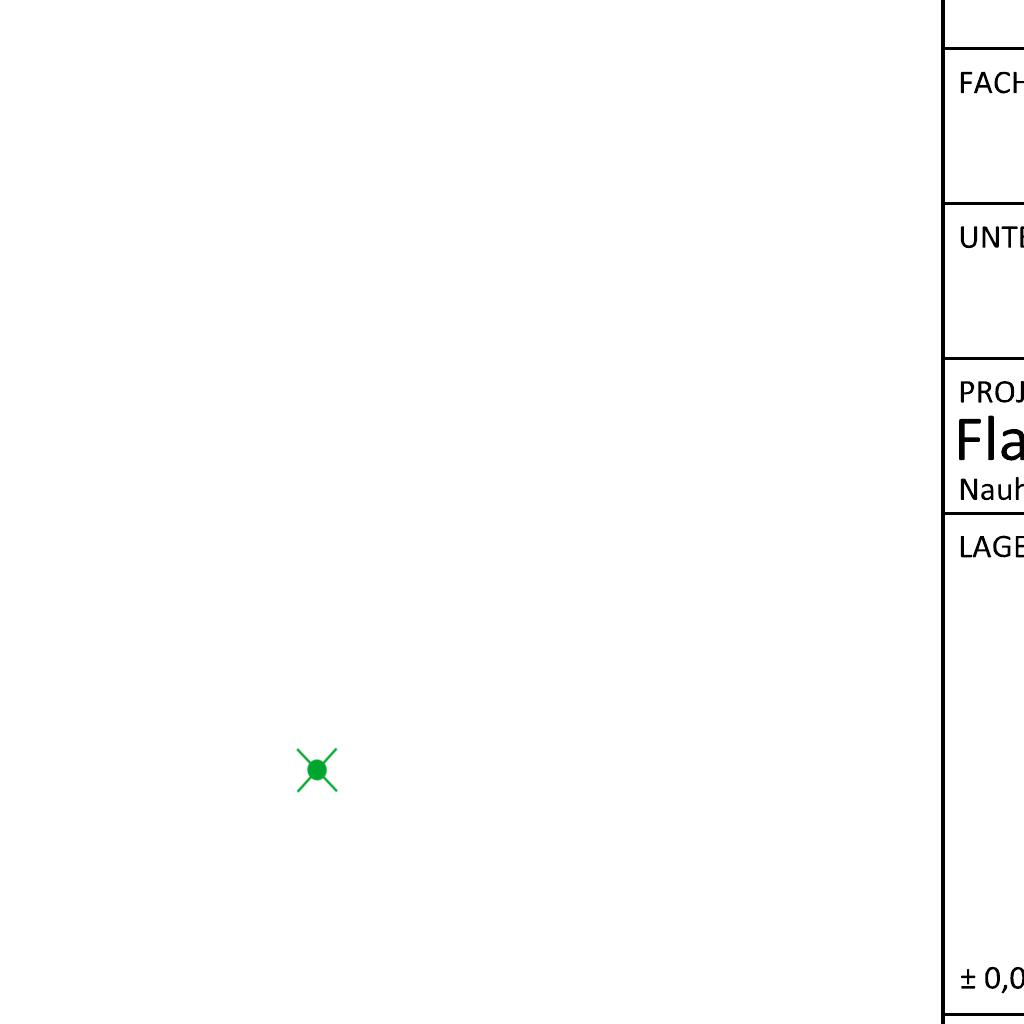Notlichtbaustein_in_Allgemeinbeleuchtug_engebaut_Einbau_(1UG_und_2UG_Aufbauvaria: (291, 745, 342, 795)
